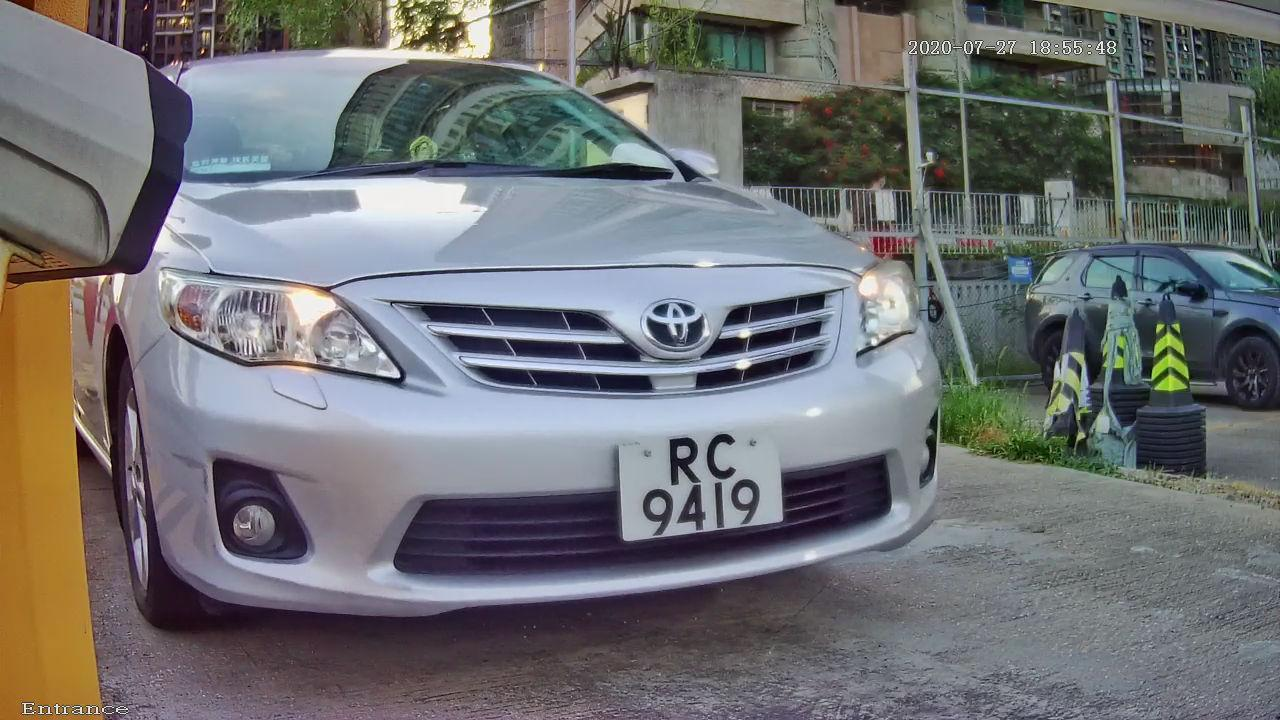privatecar: (69, 23, 1052, 656)
